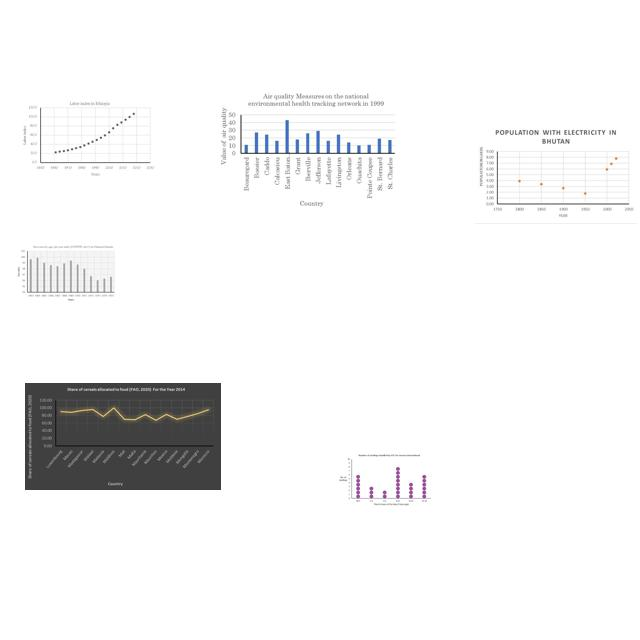Graph: (215, 90, 400, 210), (25, 383, 221, 490), (475, 125, 637, 224), (22, 100, 155, 177), (15, 243, 116, 303), (336, 452, 433, 508)
